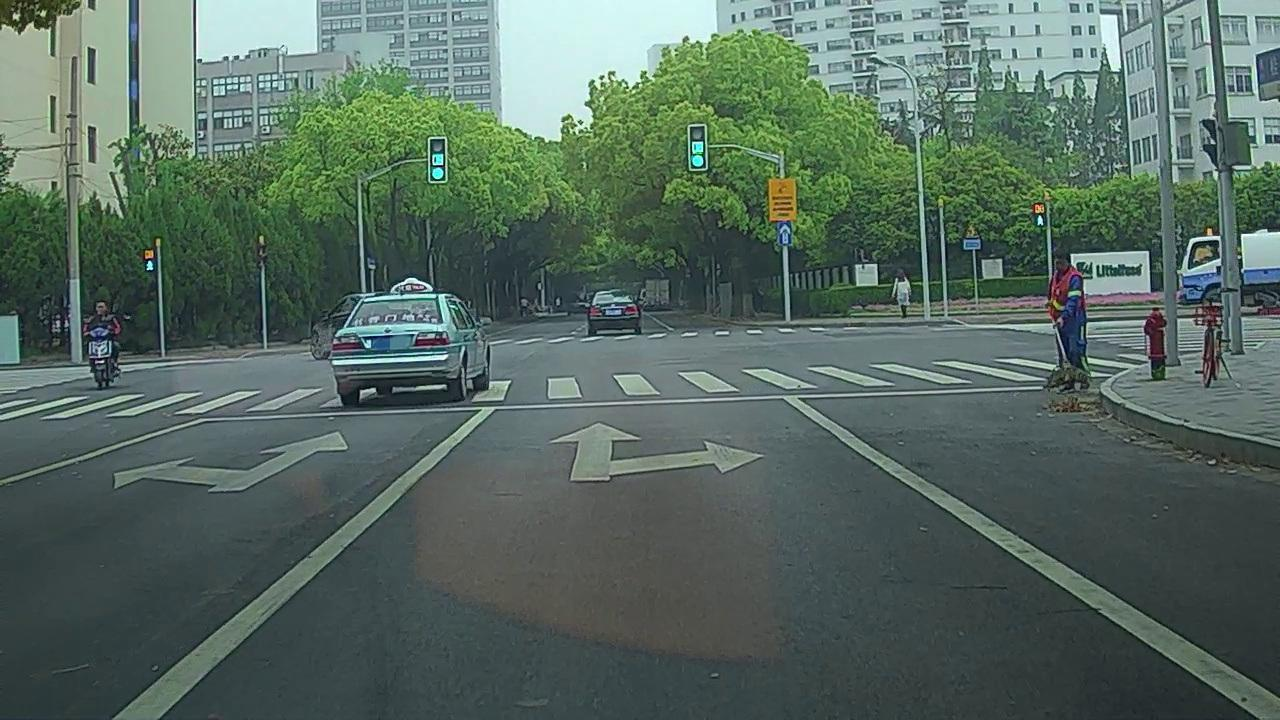traffic_light: (431, 139, 446, 182), (690, 124, 704, 169)
